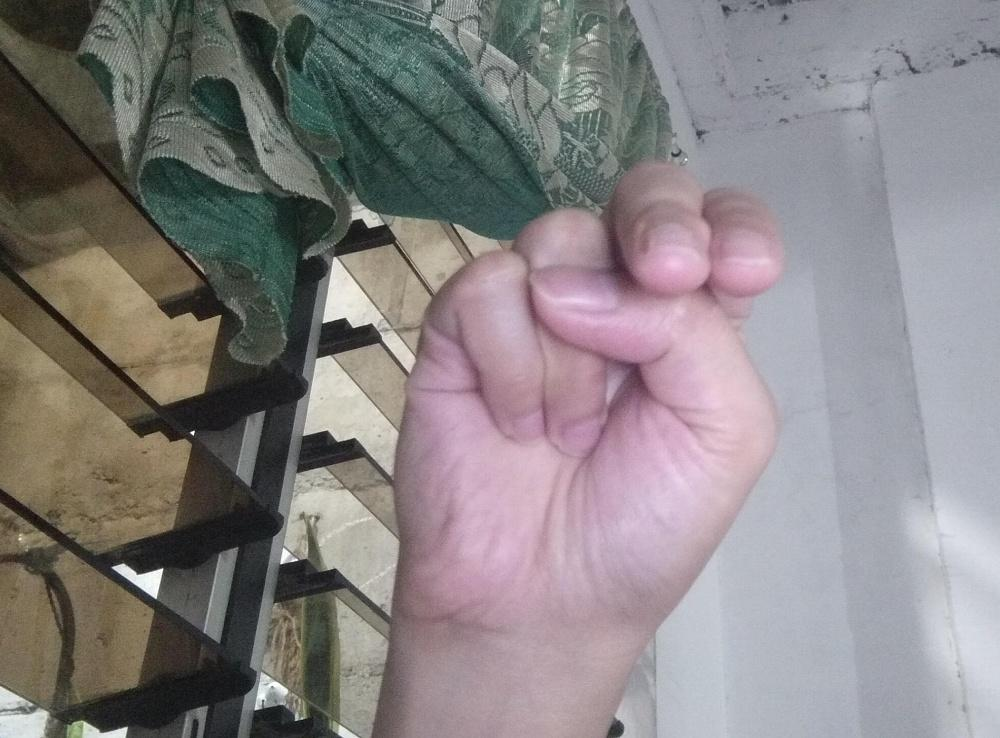n: (390, 159, 790, 651)
